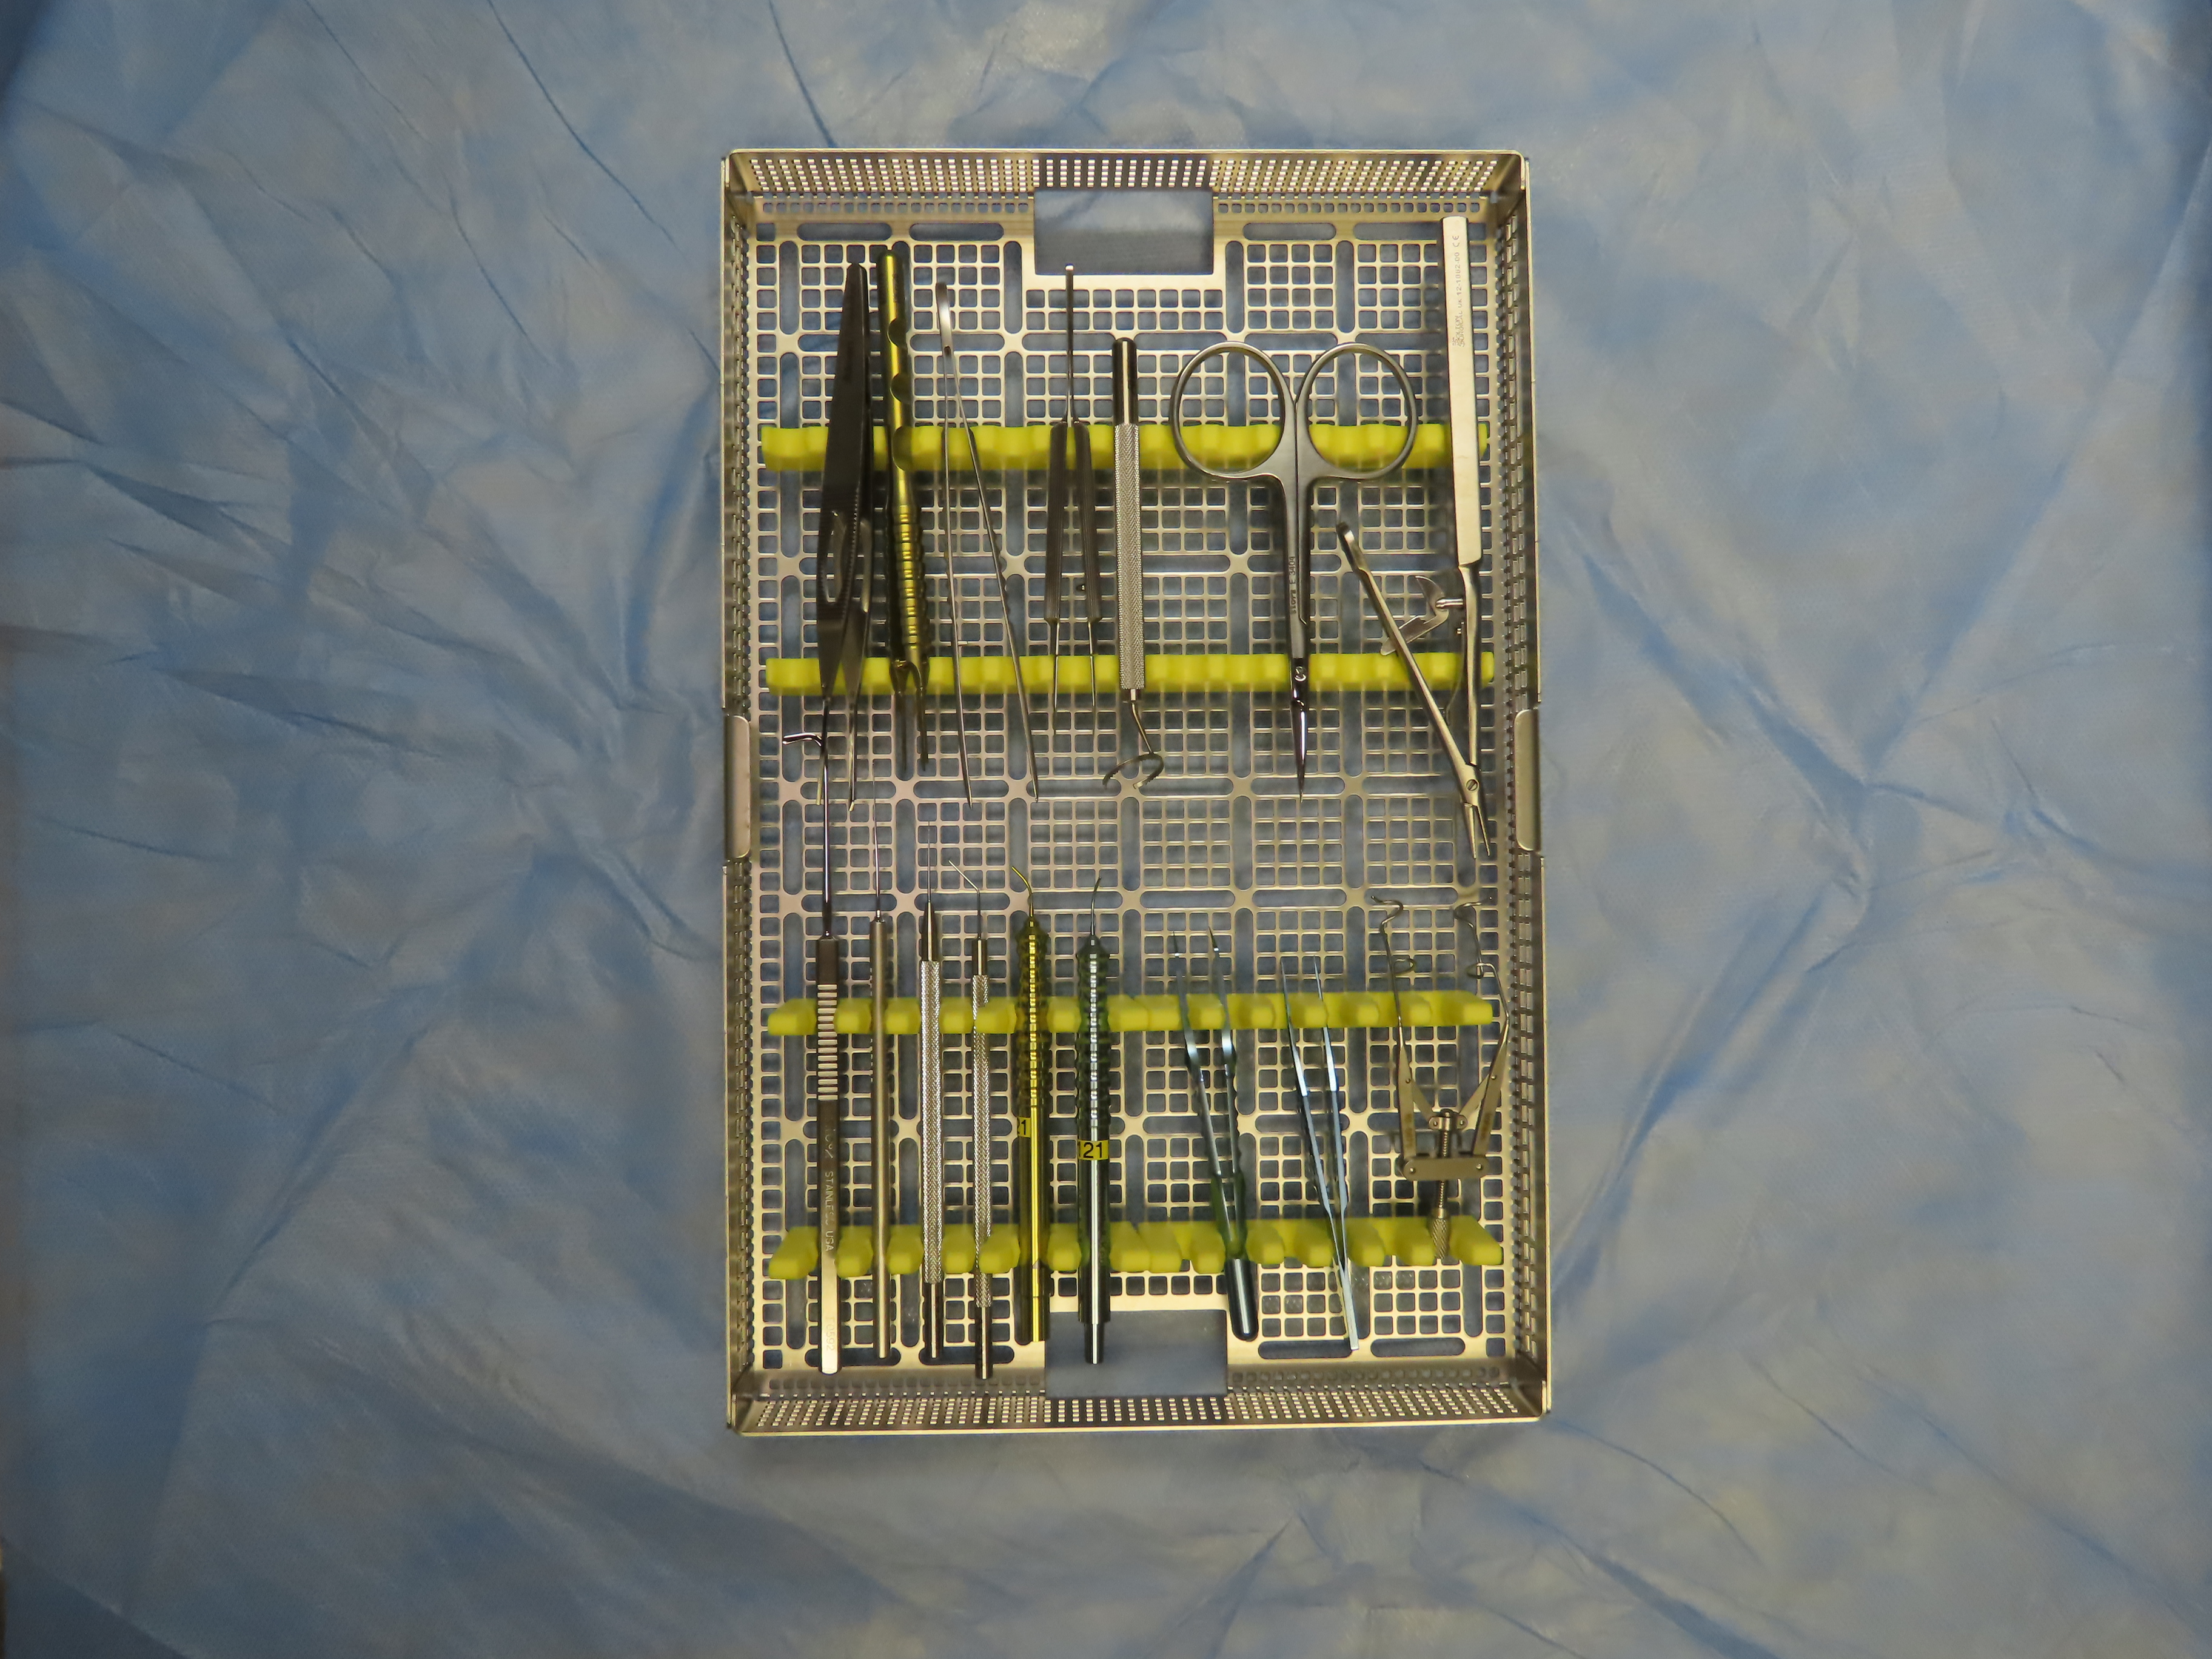Chopper: (944, 856, 1005, 1401)
Dressing Forceps: (925, 279, 1043, 812)
Fixation Ring: (1104, 333, 1174, 798)
Handpiece: (1001, 856, 1069, 1359), (1062, 871, 1120, 1370)
Hook Surgical: (782, 725, 850, 1385), (904, 812, 954, 1368)
Iris Scissors: (1165, 329, 1423, 805)
Needle Holder: (1334, 214, 1500, 866)
Spatula Surgical: (859, 805, 904, 1370)
Speculum: (1360, 887, 1505, 1286)
Tissue Forceps: (1153, 918, 1285, 1359), (1261, 948, 1381, 1359), (864, 247, 937, 796), (1029, 260, 1104, 728), (815, 253, 873, 800)
